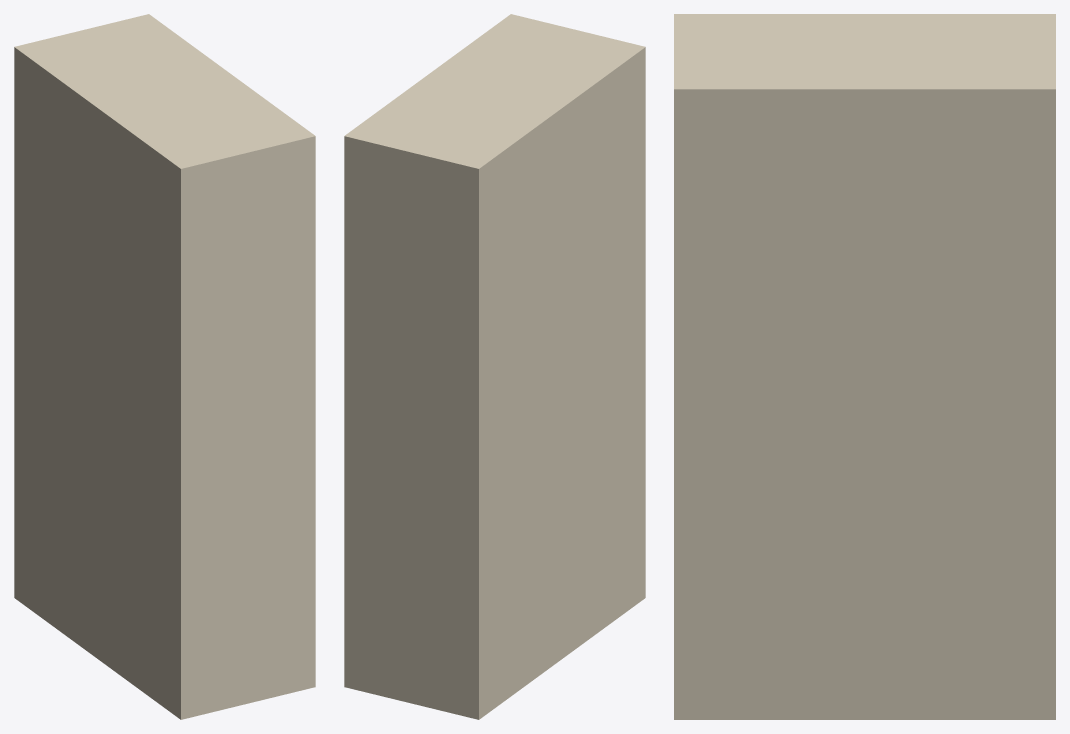
3 views of the same model, side by side, from view 1: azimuth 30°, elevation 25°; view 2: azimuth 150°, elevation 25°; view 3: azimuth 270°, elevation 25° (orthographic). The views are drawn at different scales.
Parts seen in each view (by area): view 1: A-GF-WINDOW-012-SILL; view 2: A-GF-WINDOW-012-SILL; view 3: A-GF-WINDOW-012-SILL.
Boxes of the visible parts, box(x1,y1,x2,y2) form: A-GF-WINDOW-012-SILL: box(14, 14, 315, 719); A-GF-WINDOW-012-SILL: box(344, 14, 645, 719); A-GF-WINDOW-012-SILL: box(674, 14, 1055, 719).
Size of the model in its own units: 0.21 by 0.82 by 0.45.
